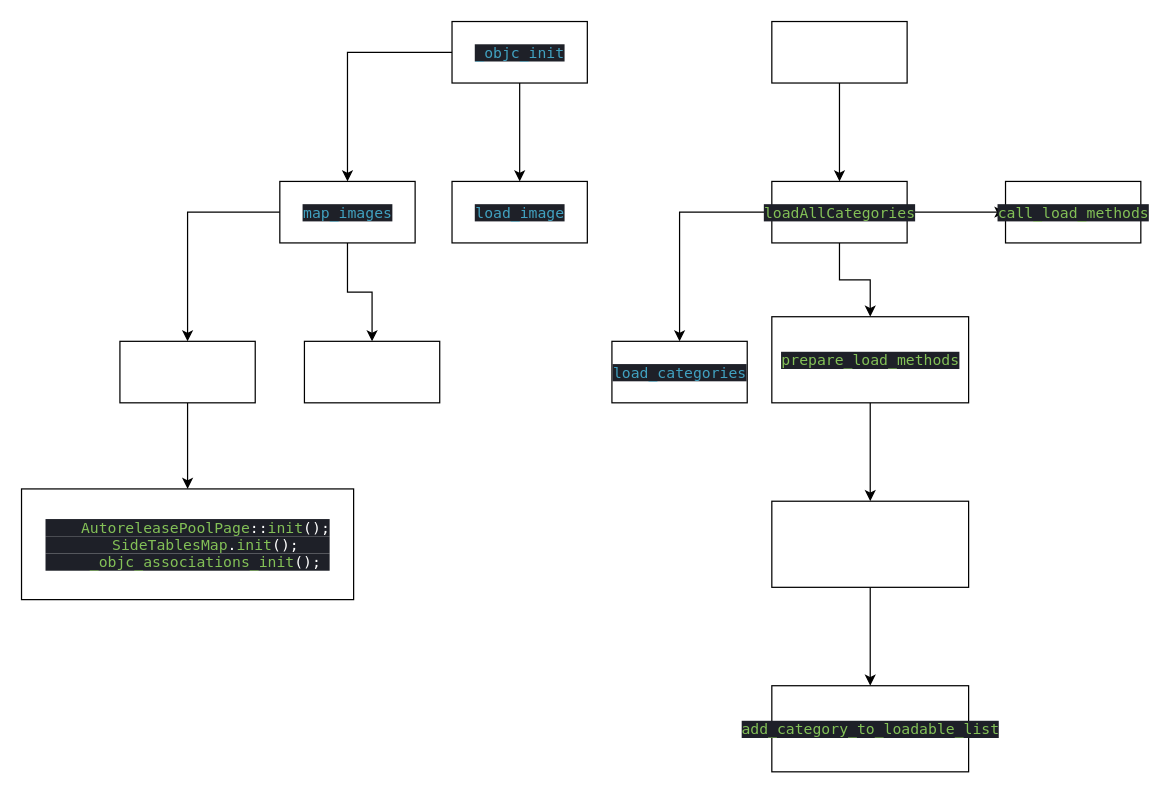
This 1170x793 diagram has some shape labels left out. The shapes that lost their labels are listed below. From the top down, each one's centre as x and y in pixels, then its label:
At [839,51]: "load_images".
At [187,371]: "arr_init".
At [371,371]: "read_image".
At [870,543]: "realizeClassWithoutSwift".
